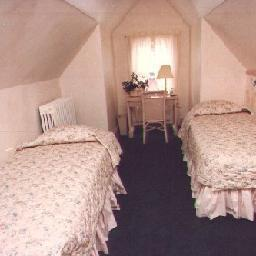Cama: (3, 130, 114, 253), (190, 102, 251, 208)
